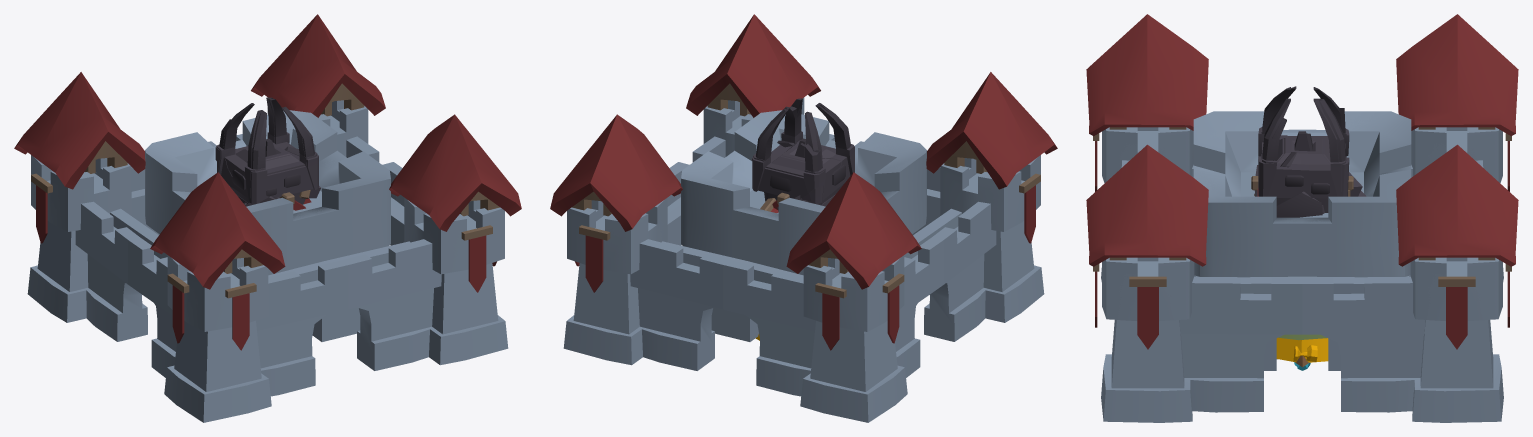
The model's file is Models.fbx.
3 views of the same model, side by side, from view 1: azimuth 30°, elevation 25°; view 2: azimuth 150°, elevation 25°; view 3: azimuth 270°, elevation 25° (orthographic). The views are drawn at different scales.
Visible parts, largest first — view 1: Castle, WizardTowerLevel2, WizardTowerLevel2_Destroyed; view 2: Castle, WizardTowerLevel2_Destroyed, WizardTowerLevel2; view 3: Castle, WizardTowerLevel2, WizardTowerLevel2_Destroyed, BigGold, WizardTowerLevel1.
Boxes of the visible parts, x1,y1,x2,y2 form: Castle: (14,14,521,422); WizardTowerLevel2: (217,98,318,204); WizardTowerLevel2_Destroyed: (215,97,317,201); Castle: (550,14,1057,422); WizardTowerLevel2_Destroyed: (752,104,854,204); WizardTowerLevel2: (753,98,854,205); Castle: (1086,14,1518,422); WizardTowerLevel2: (1258,87,1346,212); WizardTowerLevel2_Destroyed: (1261,86,1349,198); BigGold: (1276,337,1328,362); WizardTowerLevel1: (1276,172,1362,217).
Size of the model in its own units: 1104 by 833 by 1119.
